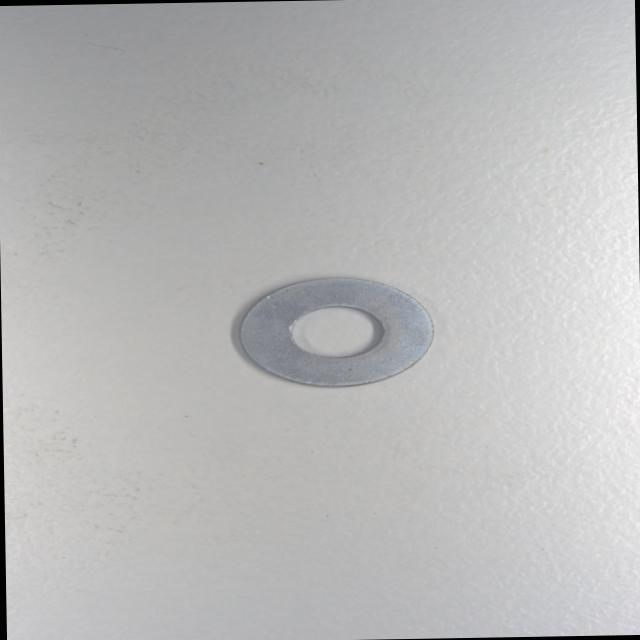washer: (236, 272, 436, 389)
